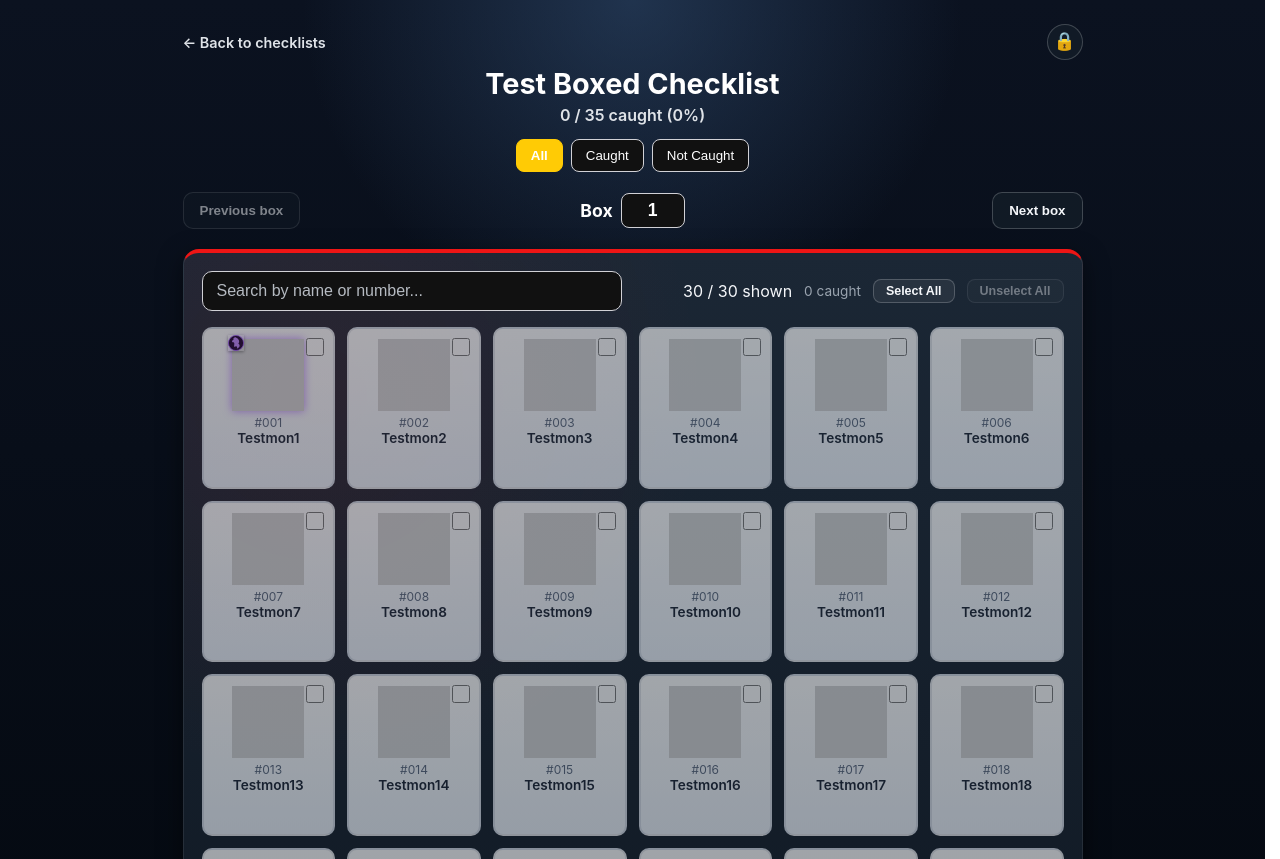
Test: ChecklistPage - the password lock › relocks when the lock button is clicked again
Click the button named "Locked — tap to unlock editing" at (1064, 42), box [1046,24,1082,60]
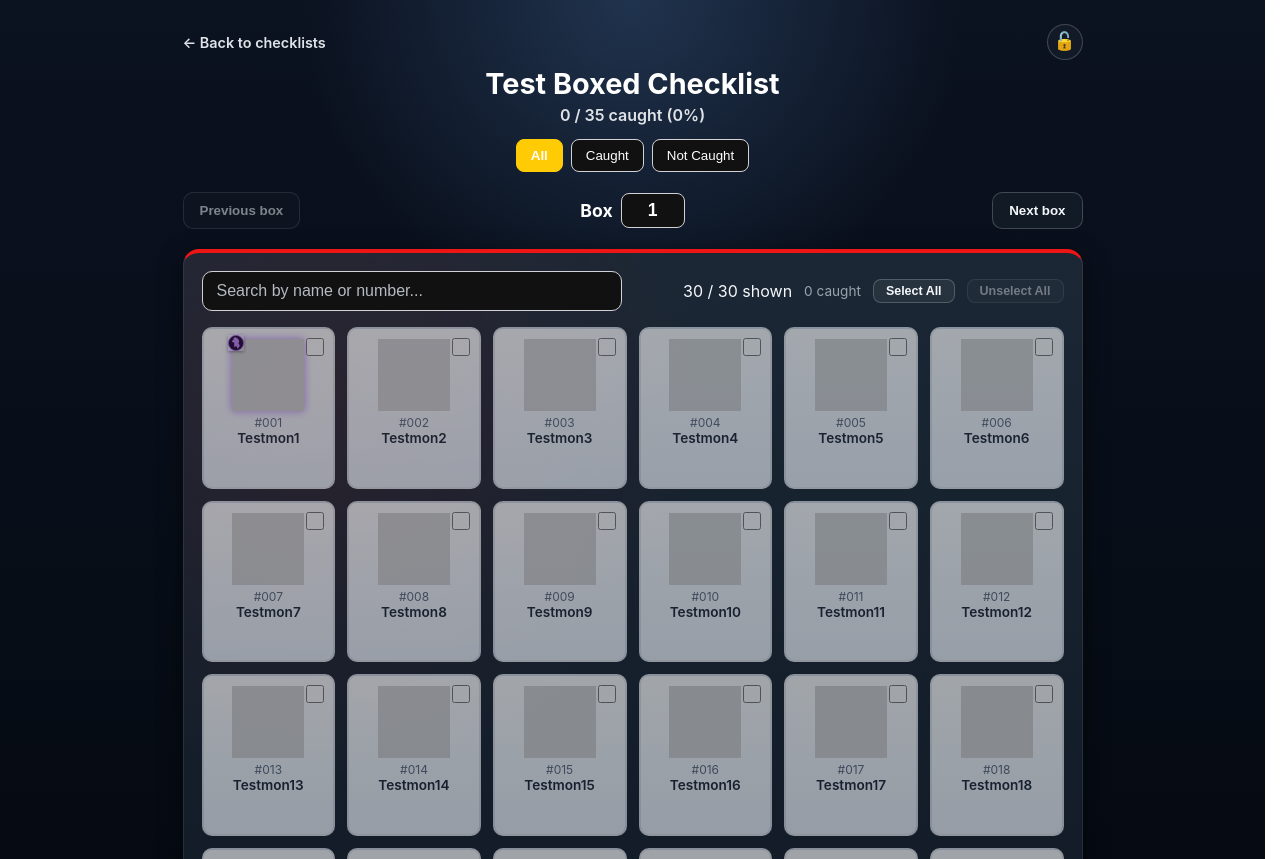
Expected: the button named "Editing unlocked" is shown
Click the button named "Editing unlocked" at (1064, 42), box [1046,24,1082,60]
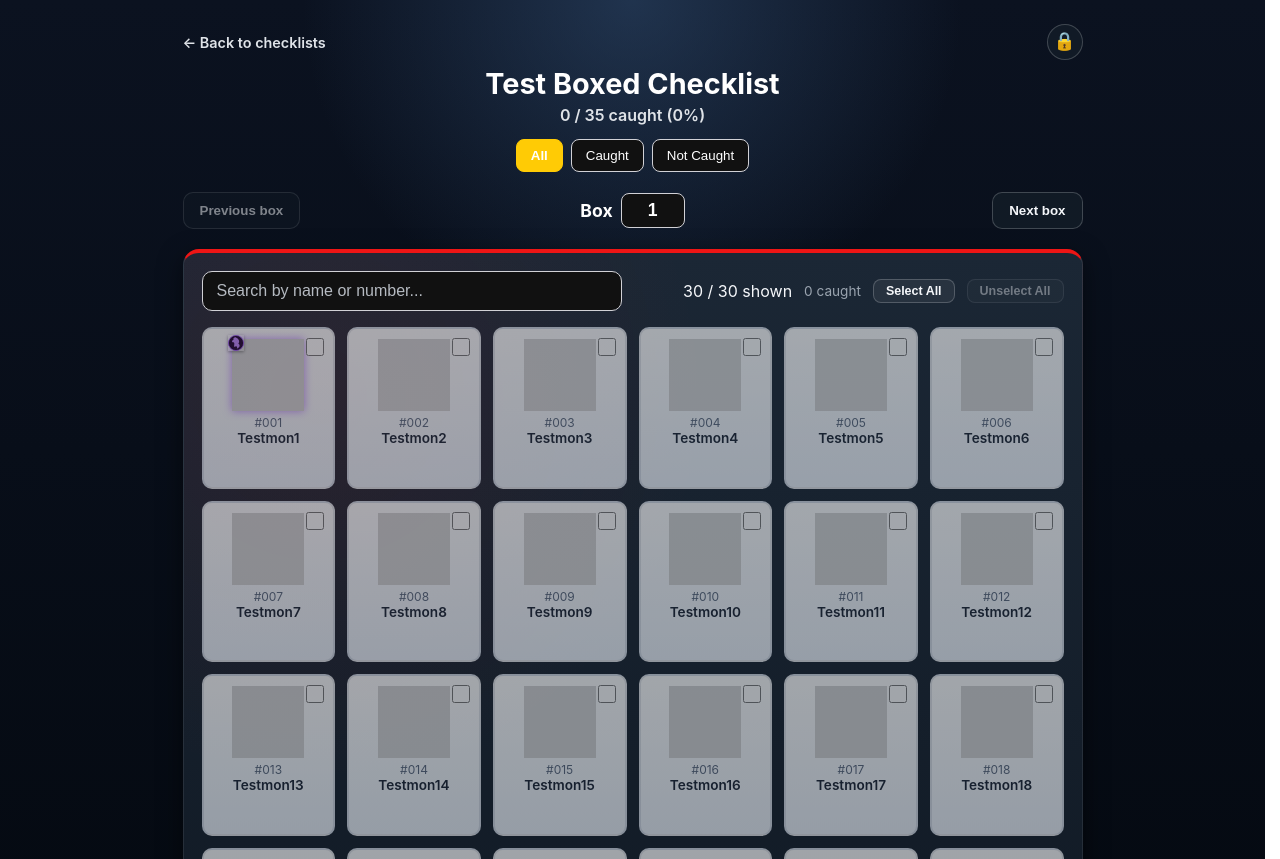
Expected: the button named "Locked — tap to unlock editing" is shown, [1046,24,1082,60]
